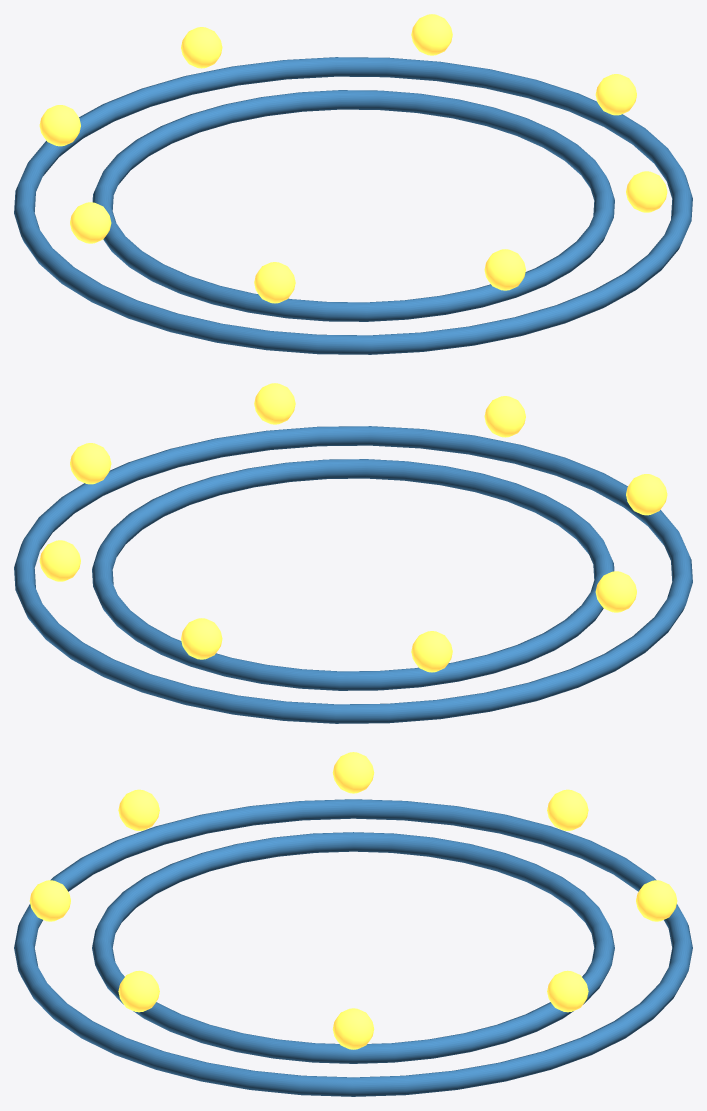
Rendered from Craft_Ring.glb.
3 views of the same model, one above another, from view 1: azimuth 30°, elevation 25°; view 2: azimuth 150°, elevation 25°; view 3: azimuth 270°, elevation 25° (orthographic).
Visible parts, largest first — view 1: Craft_Ring; view 2: Craft_Ring; view 3: Craft_Ring.
Part boxes in pixels (x1,y1,x2,y2): Craft_Ring: (14, 14, 692, 354); Craft_Ring: (14, 383, 692, 723); Craft_Ring: (14, 752, 692, 1096).
Size of the model in its own units: 0.784 by 0.096 by 0.784.
2 materials, 1 textured.
